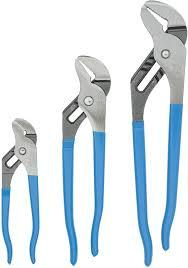pliers: (129, 0, 187, 267), (60, 53, 111, 265), (0, 116, 40, 264)
